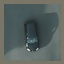car: (23, 20, 41, 50)
